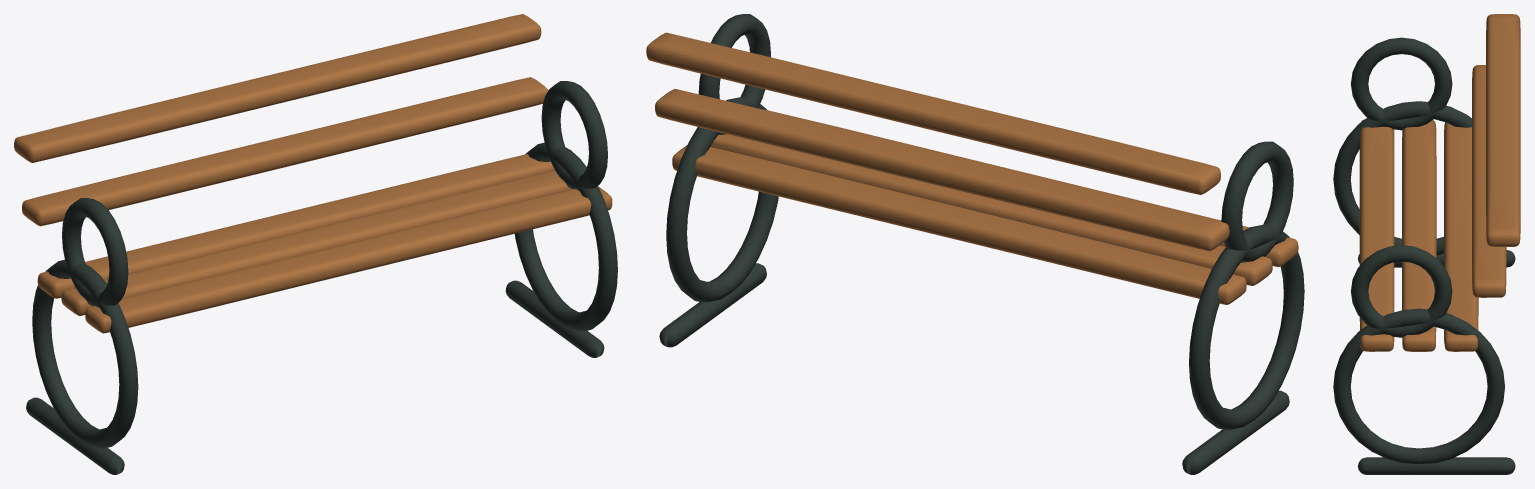
Rendered from plush_bench.glb.
The picture shows the model from 3 angles, left to right: view 1: azimuth 30°, elevation 25°; view 2: azimuth 150°, elevation 25°; view 3: azimuth 270°, elevation 25°; orthographic projection. The views are drawn at different scales.
Parts seen in each view (by area): view 1: slat0, Torus; view 2: slat0, Torus; view 3: slat0, Torus.
Boxes of the visible parts, x1,y1,x2,y2 form: slat0: [14, 14, 612, 333]; Torus: [26, 81, 617, 474]; slat0: [646, 32, 1298, 304]; Torus: [659, 14, 1304, 474]; slat0: [1359, 14, 1520, 351]; Torus: [1333, 37, 1515, 474].
Bounding box in the file's own units: 1.5 × 0.7795 × 0.5345.
